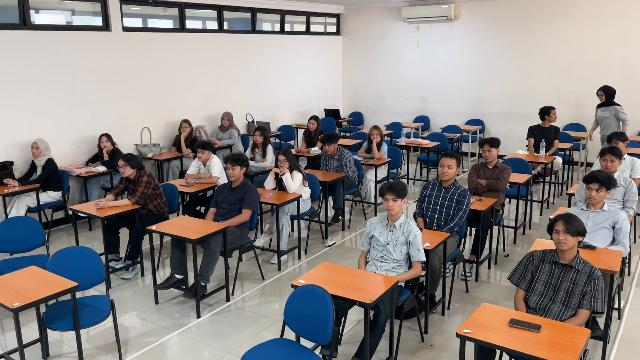fokus: (553, 225, 573, 250), (585, 183, 603, 203), (383, 194, 400, 215), (438, 160, 454, 180), (601, 156, 617, 172), (226, 164, 240, 181), (117, 161, 130, 176), (482, 147, 495, 162), (608, 139, 624, 150), (278, 155, 289, 170), (322, 143, 334, 155), (100, 137, 111, 150), (32, 143, 41, 157), (180, 122, 190, 134), (197, 149, 206, 161), (254, 132, 263, 143), (222, 115, 230, 127), (308, 120, 317, 130), (371, 130, 379, 141)
